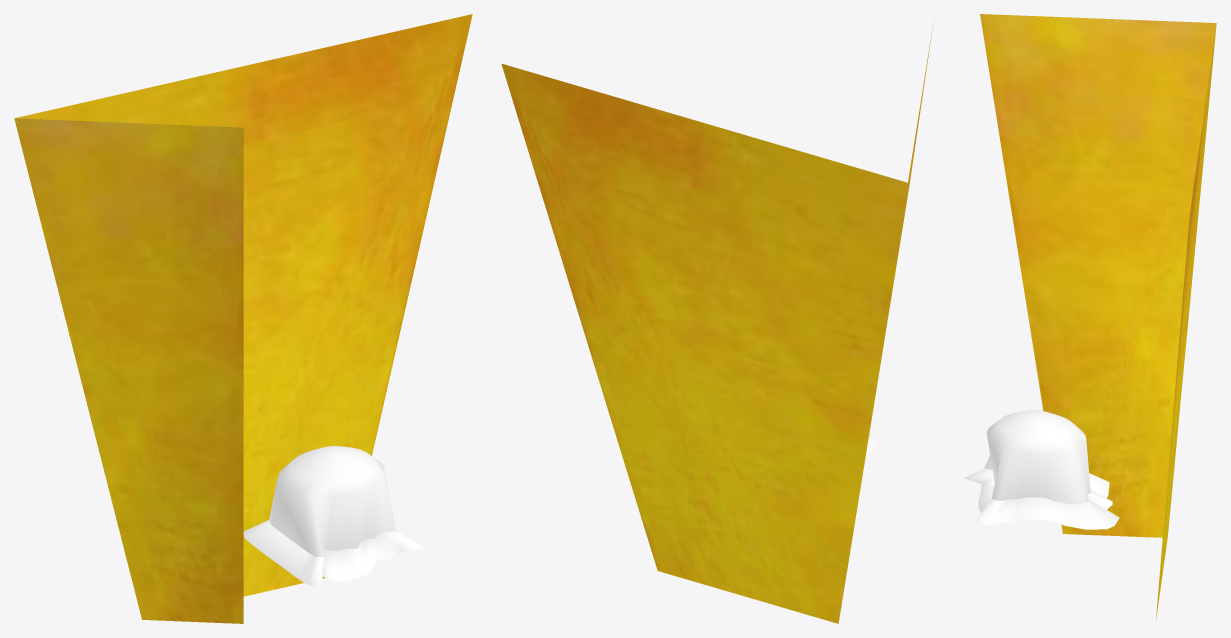
Rendered from overworld.glb.
3 views of the same model, side by side, from view 1: azimuth 30°, elevation 25°; view 2: azimuth 150°, elevation 25°; view 3: azimuth 270°, elevation 25° (orthographic). The views are drawn at different scales.
Visible parts, largest first — view 1: Cube, Skybox, Grassy planes; view 2: Cube; view 3: Cube, Skybox, Grassy planes.
Boxes of the visible parts, x1,y1,x2,y2 form: Cube: (14, 14, 472, 623); Skybox: (269, 446, 396, 556); Grassy planes: (243, 520, 425, 585); Cube: (501, 22, 933, 623); Cube: (980, 14, 1216, 622); Skybox: (984, 410, 1090, 503); Grassy planes: (963, 468, 1119, 529).
Size of the model in its own units: 1221 by 1489 by 652.
Materials: 11 (1 with a texture image).
